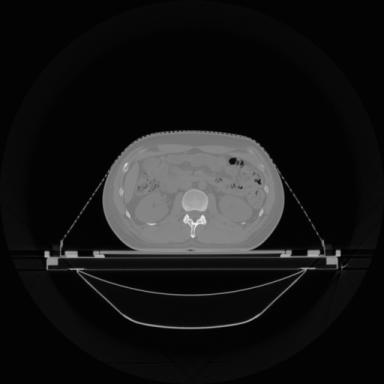body: (103, 131, 284, 250)
cord: (183, 214, 206, 237)
